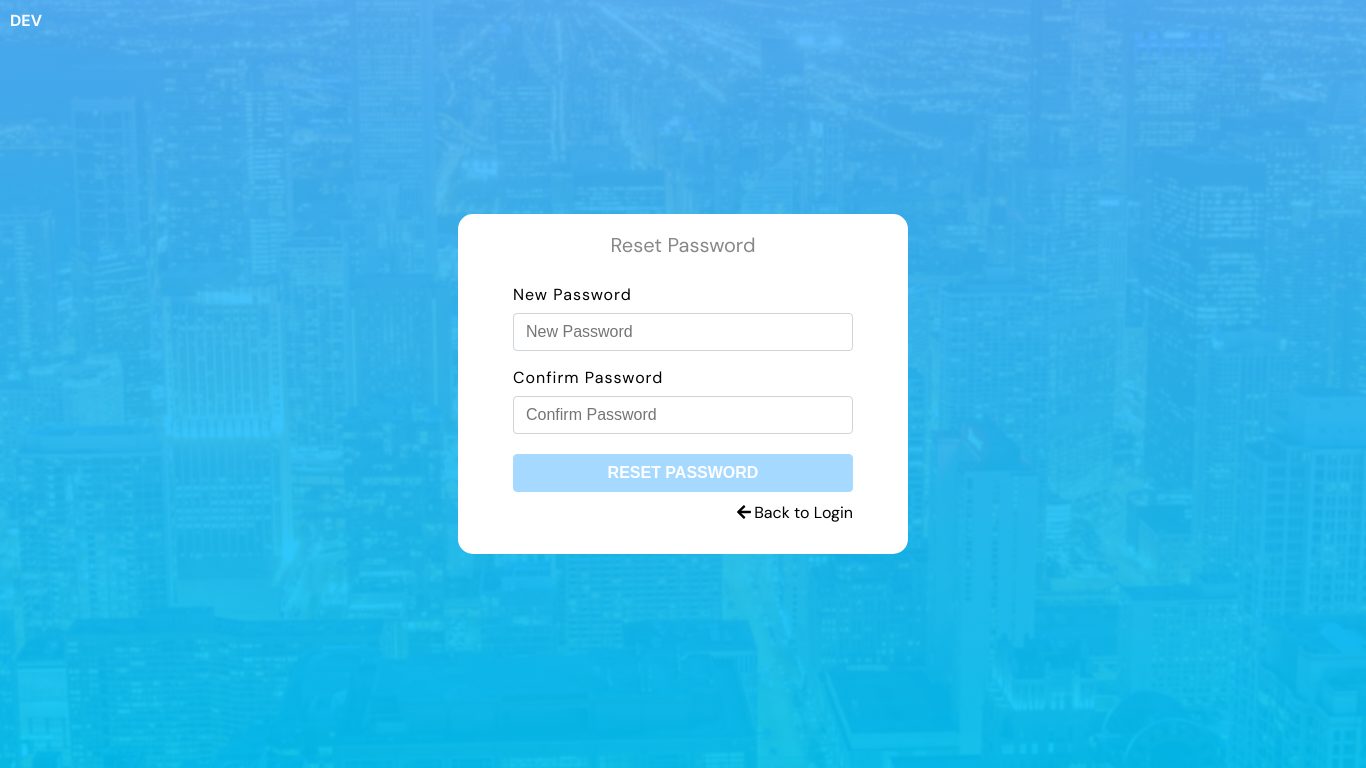
it: ResetPassword › should be enabled with input
Expected: the button is disabled, [513, 454, 853, 492]
Type "qwerty1" into the password field labelled "New Password" at {"x": 683, "y": 332}, box [513, 313, 853, 351]
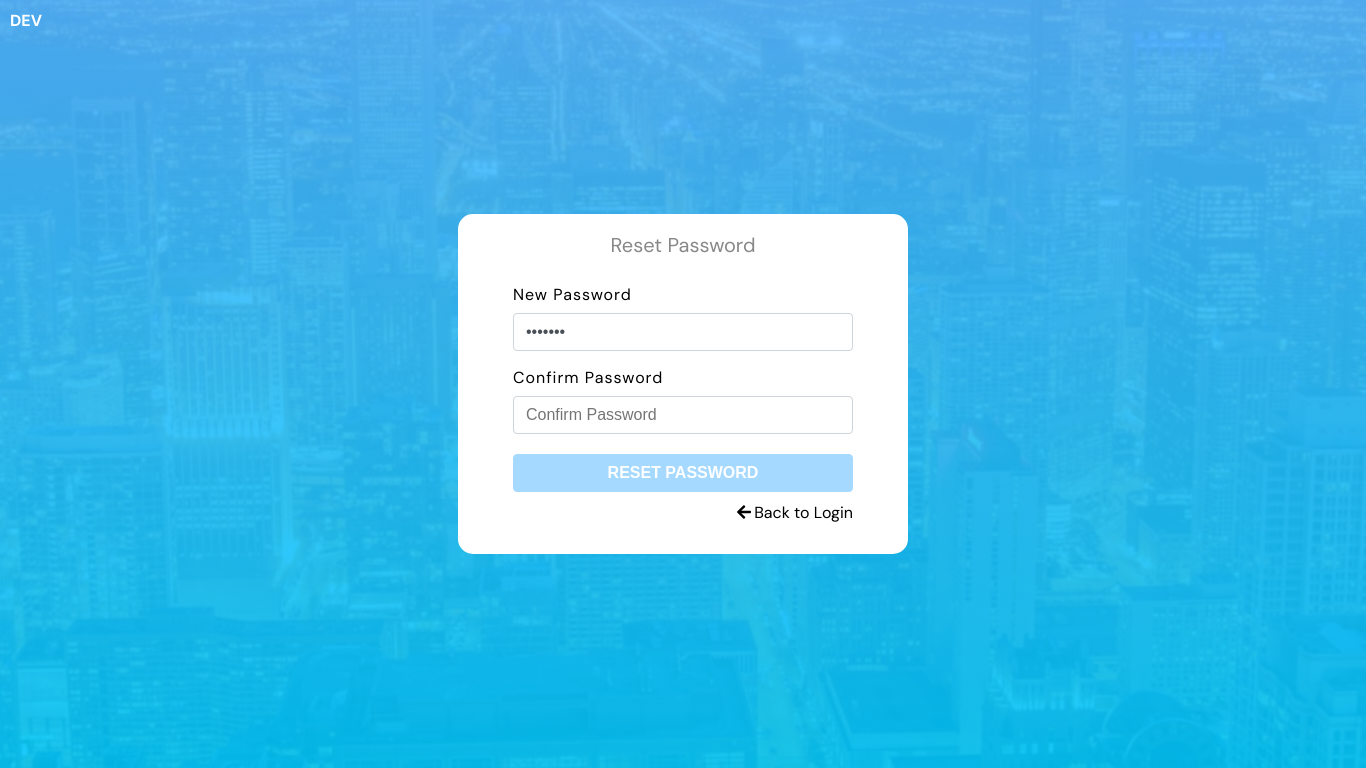
Type "qwerty1" into the password field labelled "Confirm Password" at {"x": 683, "y": 415}, box [513, 396, 853, 434]
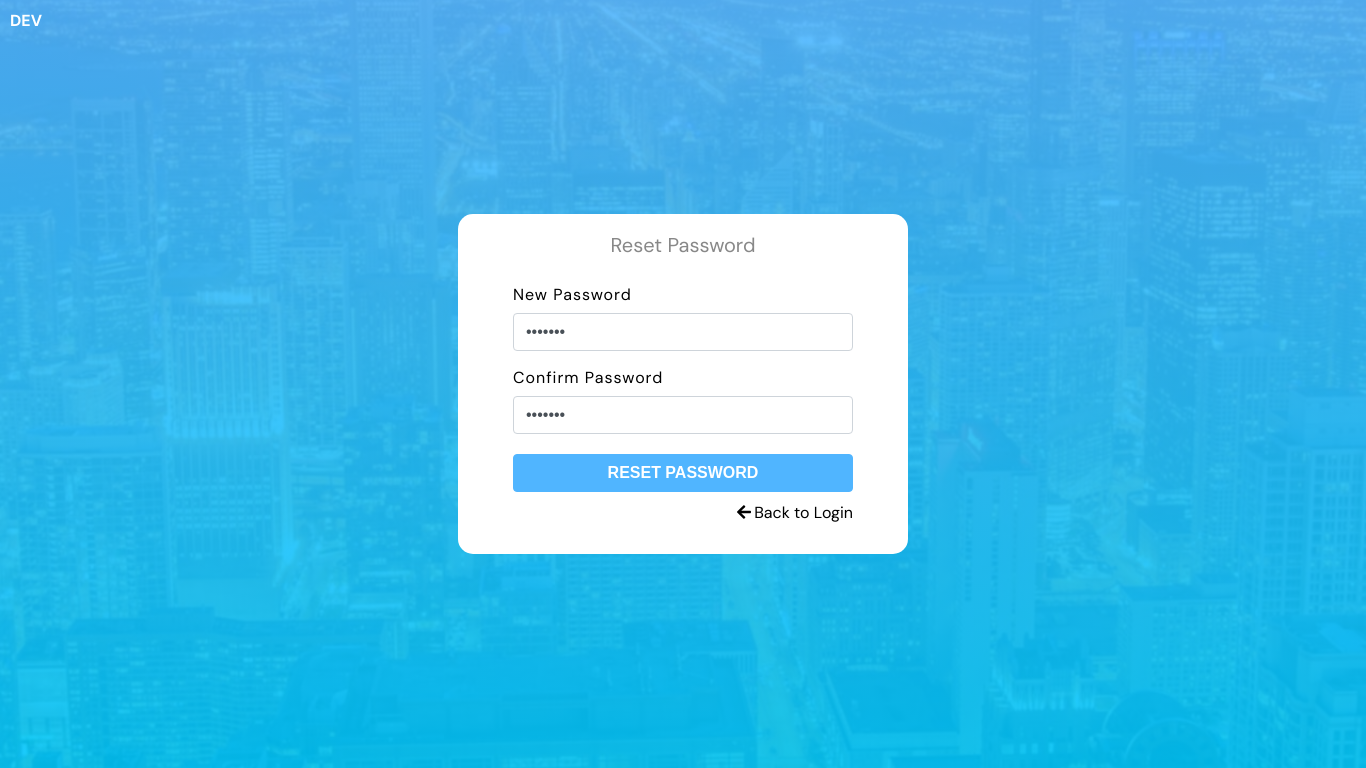
Expected: the button is enabled, [513, 454, 853, 492]
